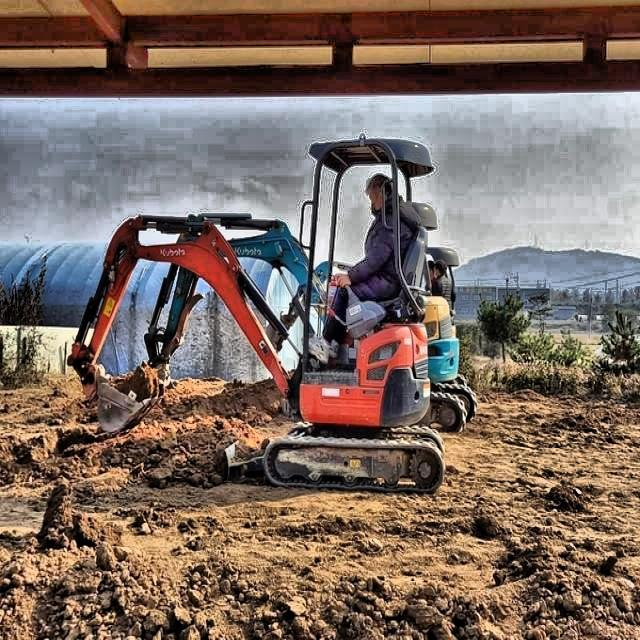bull_dozer/loader/grader: (64, 128, 448, 500), (146, 205, 480, 443), (269, 244, 469, 397)
person: (310, 172, 421, 364), (432, 258, 450, 302), (426, 257, 435, 299)
